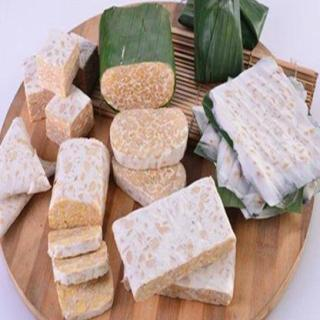Tempe: (109, 177, 242, 307), (211, 58, 320, 203), (47, 135, 123, 320)
